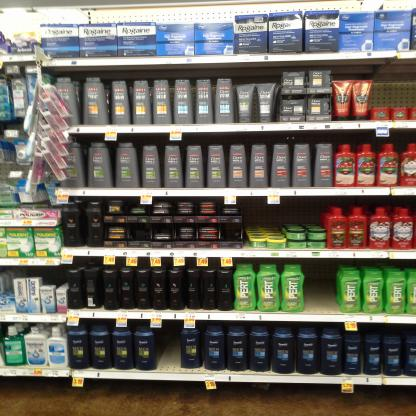Void: (240, 198, 321, 230), (297, 263, 335, 313), (372, 65, 415, 105), (155, 321, 181, 368)
